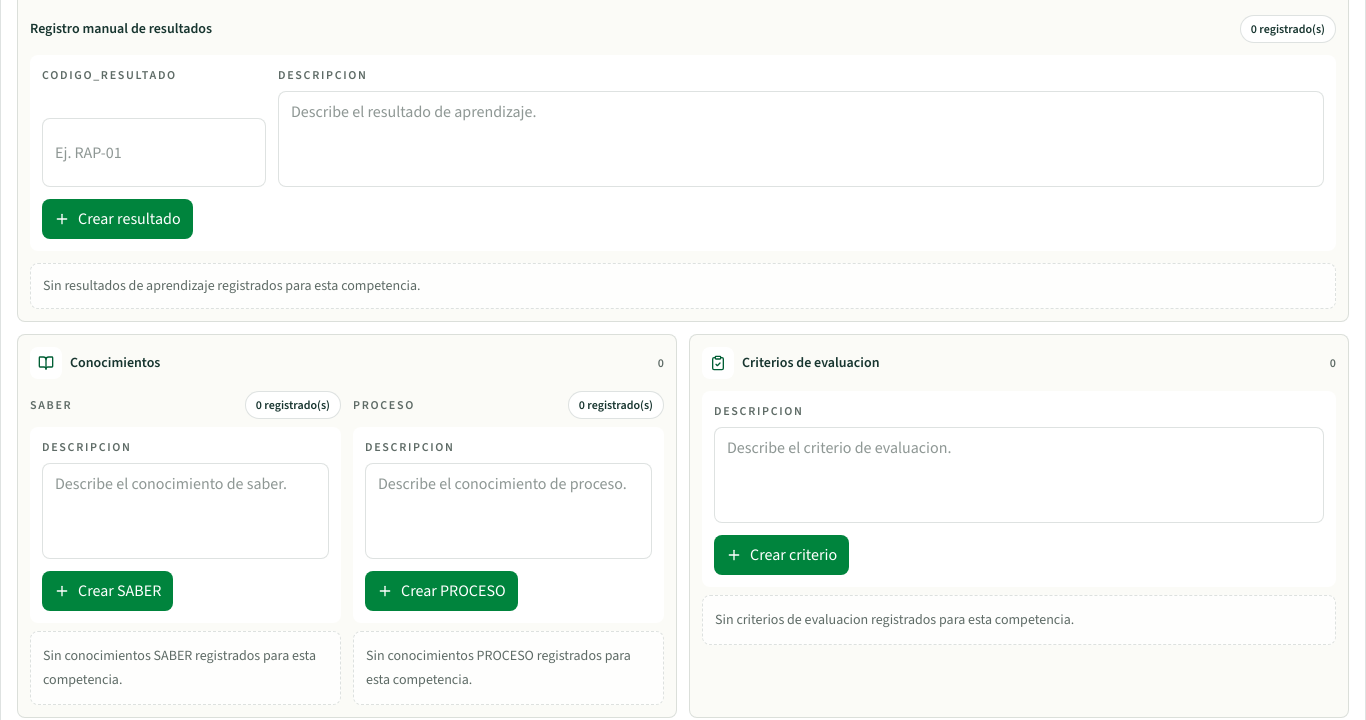
ProgramaCompetenciasManager › should show API errors such as duplicate PROCESO knowledge
(page scrolled)
Expected: the heading "Conocimientos" is shown, top-left (70, 353), bottom-right (160, 373)
In the 4th text box with placeholder "Describe el conocimiento de proceso.": (508, 511) top-left (365, 463), bottom-right (652, 559), type "Codificar solucion"
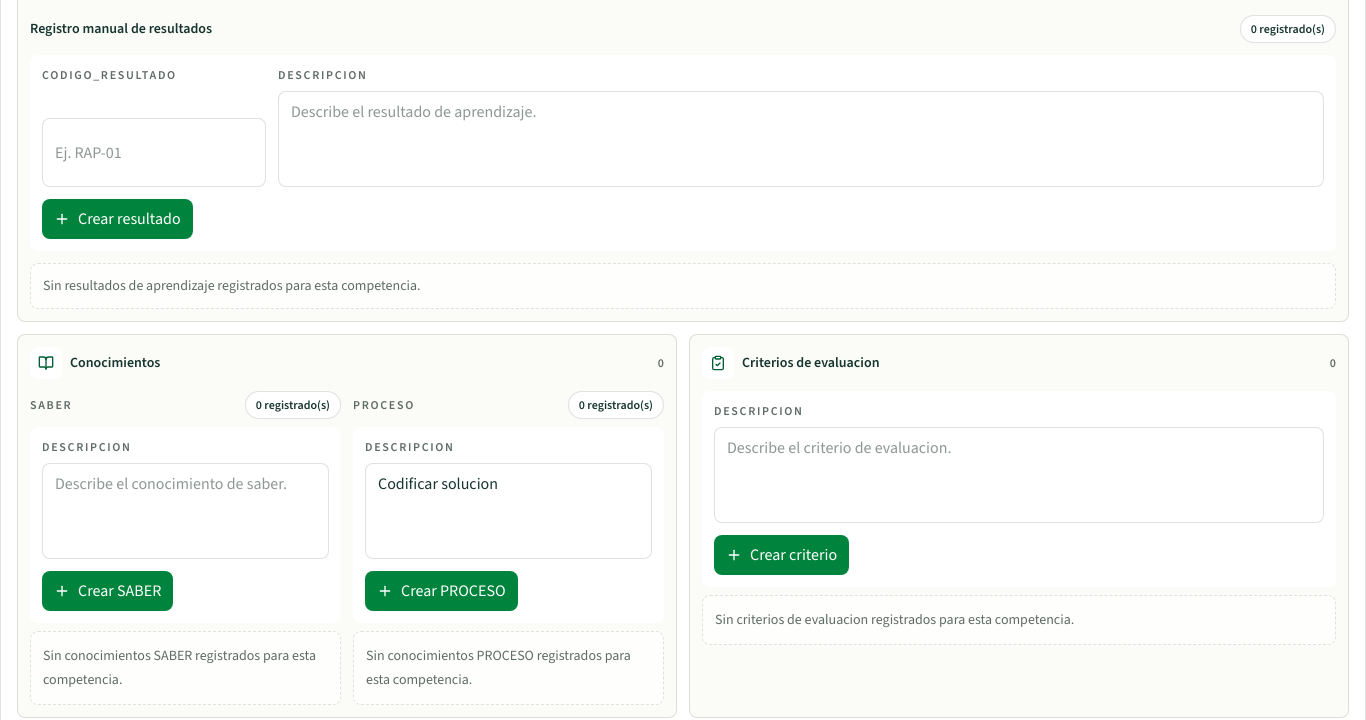
Submit the form "descripcion Crear PROCESO", box top-left (353, 427), bottom-right (664, 623)
(page scrolled)
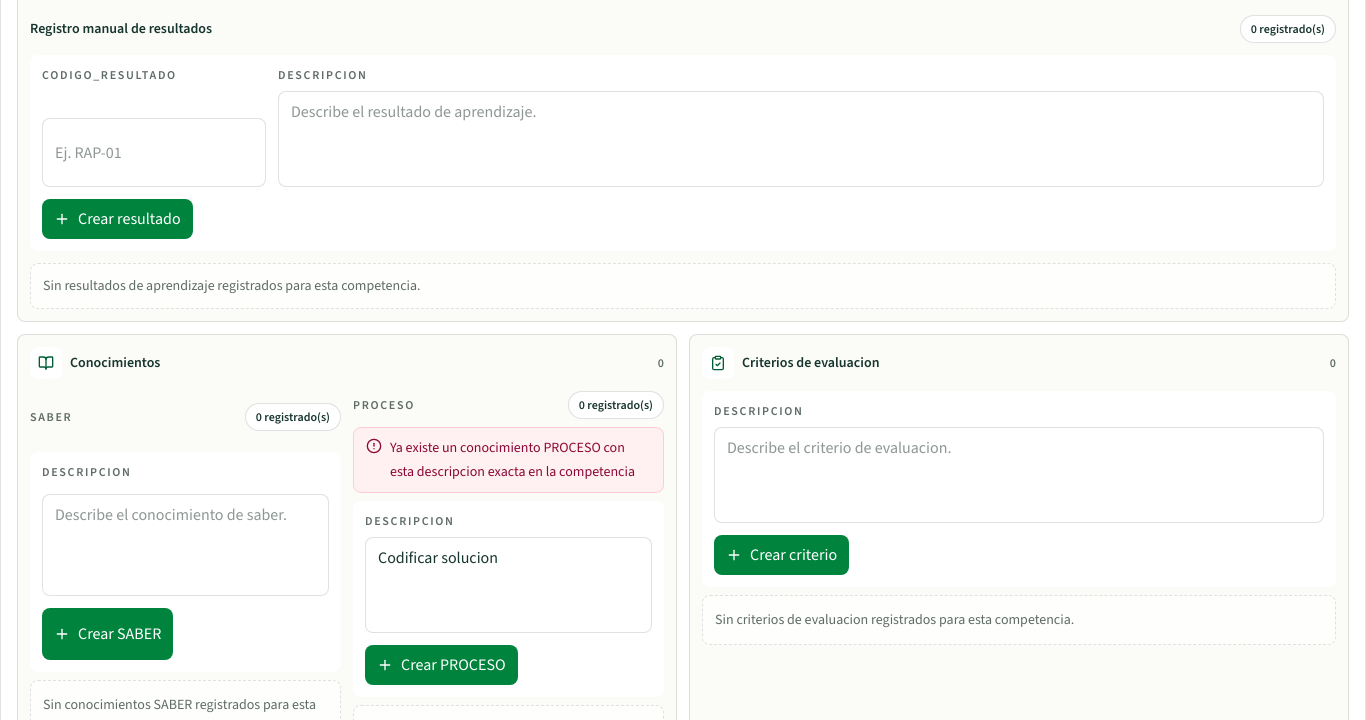
Result: the text "Ya existe un conocimiento PROCESO con esta descripcion exacta en la competencia" is shown at top-left (390, 436), bottom-right (651, 484)
